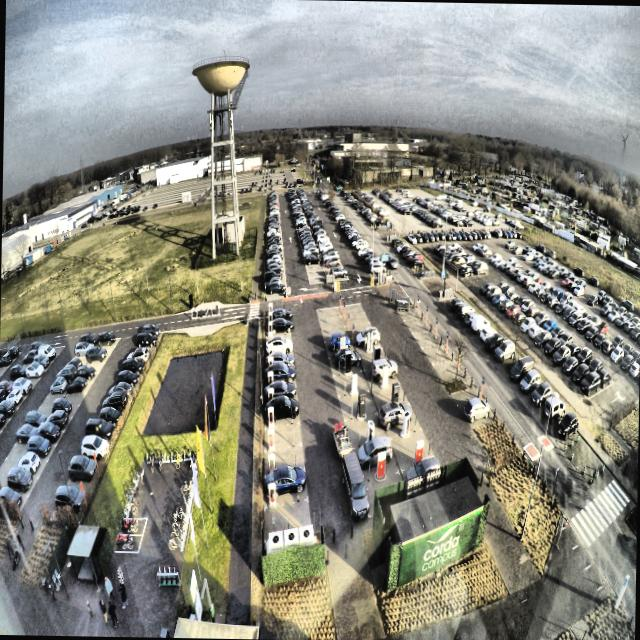cabinet: (268, 526, 314, 548)
car: (264, 462, 306, 498), (264, 394, 300, 424), (264, 359, 297, 383), (263, 380, 296, 401), (264, 350, 294, 369), (264, 335, 293, 353), (267, 317, 294, 334), (271, 306, 293, 322)
parking: (264, 501, 311, 536), (264, 468, 307, 506), (264, 442, 304, 475), (263, 423, 301, 450), (263, 403, 299, 428), (263, 384, 297, 406), (264, 368, 295, 387), (265, 354, 294, 370), (265, 342, 292, 357), (265, 333, 291, 345), (265, 312, 289, 324), (265, 323, 290, 334)
supercharger: (267, 483, 275, 505), (267, 427, 274, 450), (268, 454, 275, 476), (267, 406, 274, 427), (267, 388, 273, 403), (267, 355, 273, 370), (268, 370, 273, 387), (267, 343, 272, 356), (267, 332, 272, 343), (267, 310, 272, 321), (268, 321, 272, 331), (268, 302, 271, 312)
